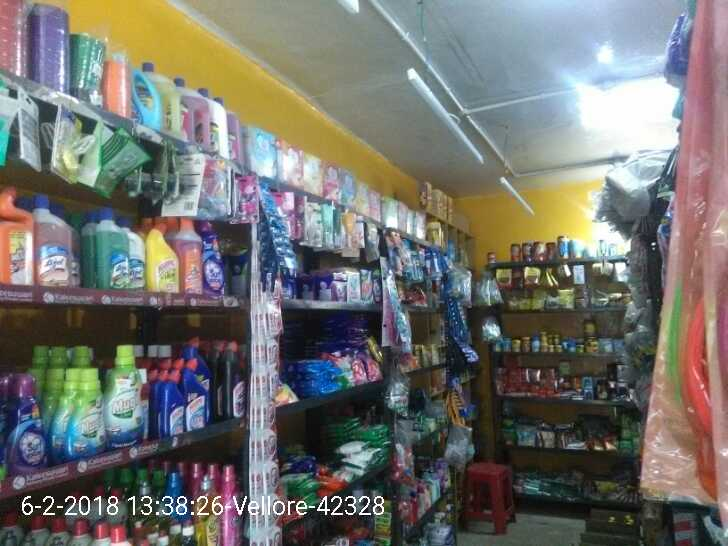reject: (199, 291, 264, 335)
